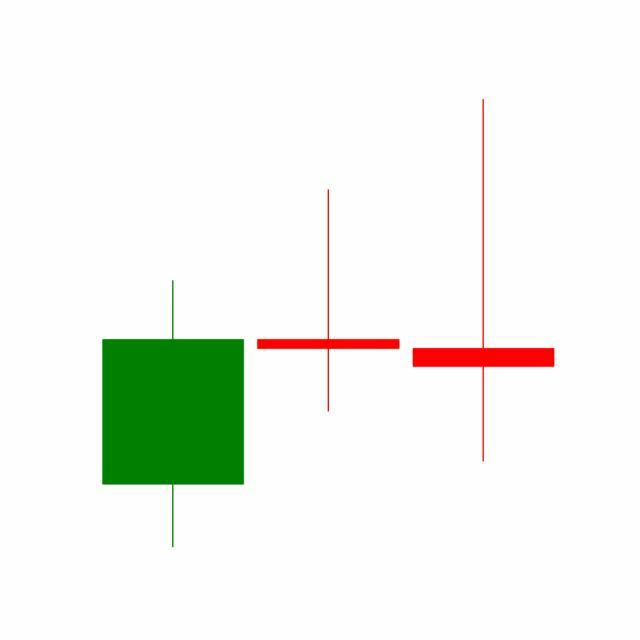Spinning Top: (406, 95, 562, 466)
